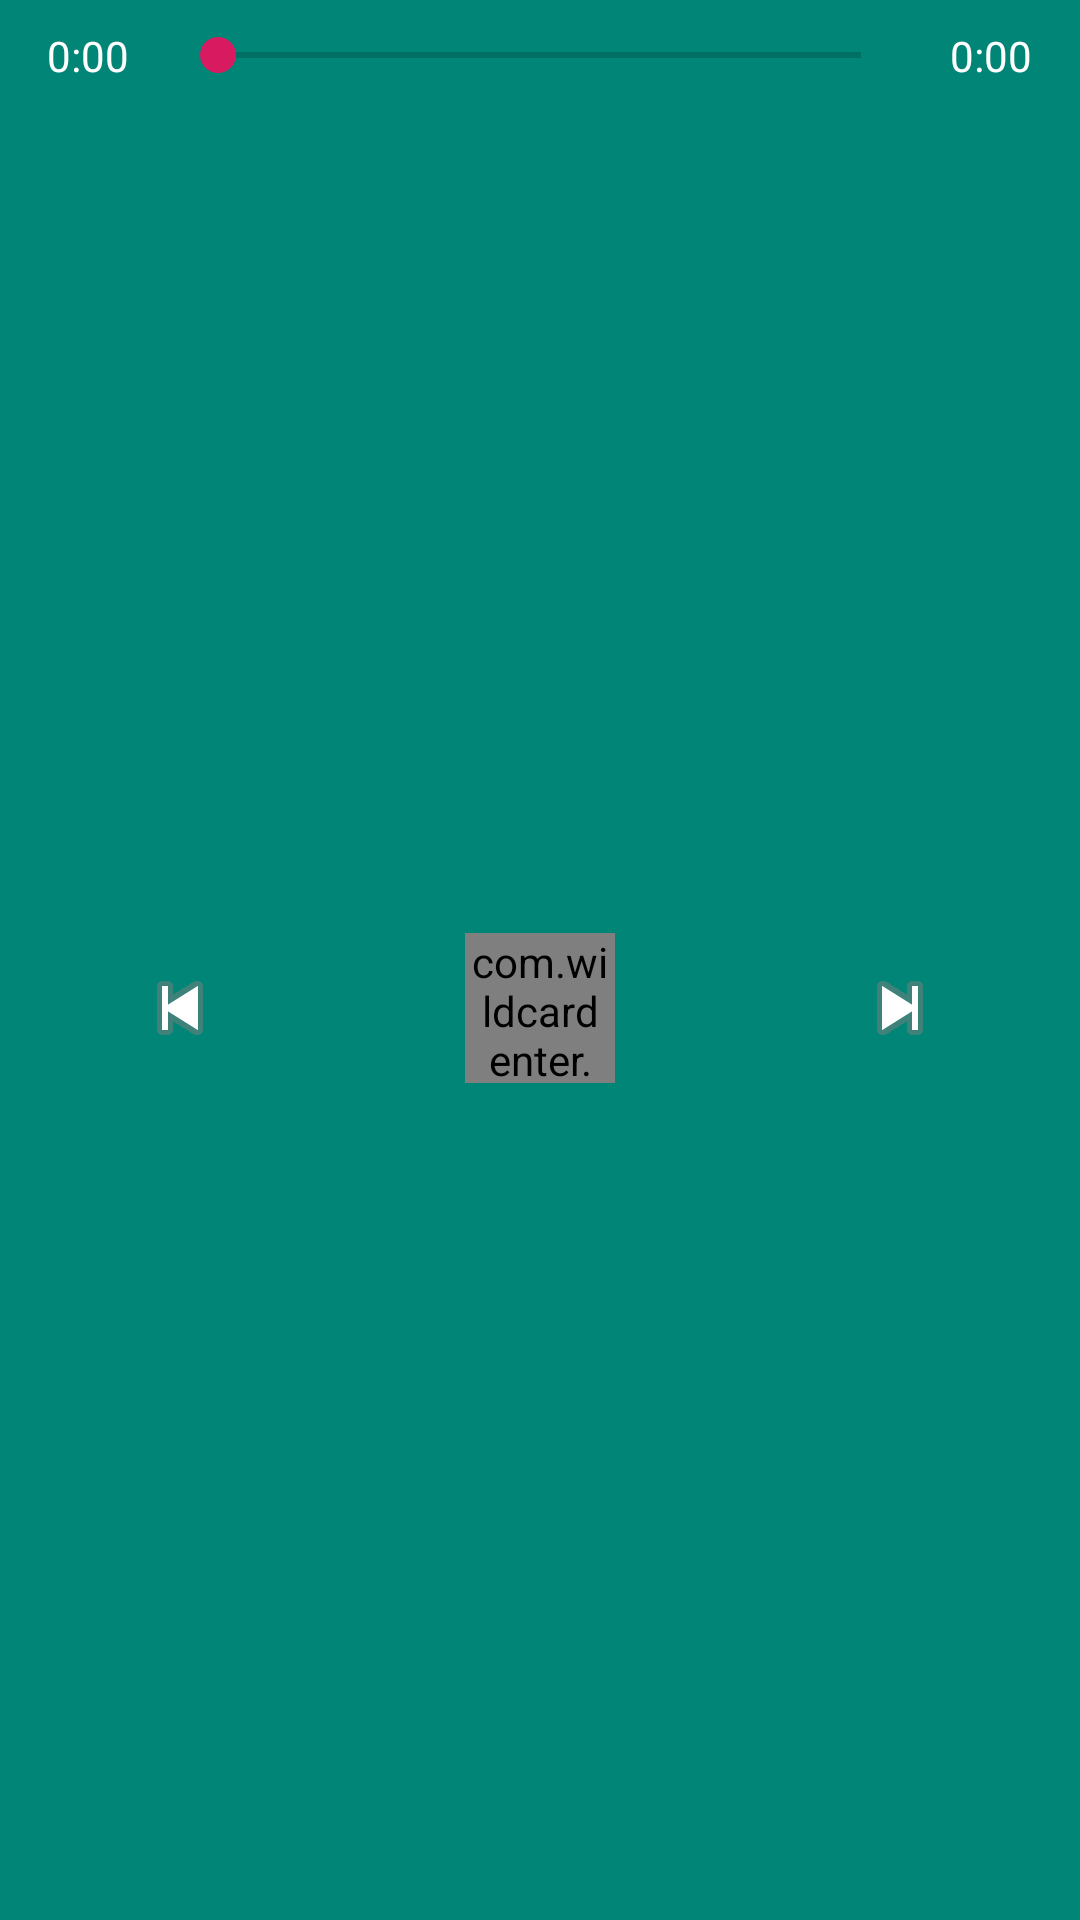

Where to tap for icons on this 1080px×1920px app screen, as (x,y):
Next Button: (900,1008)
Prev Button: (180,1008)
